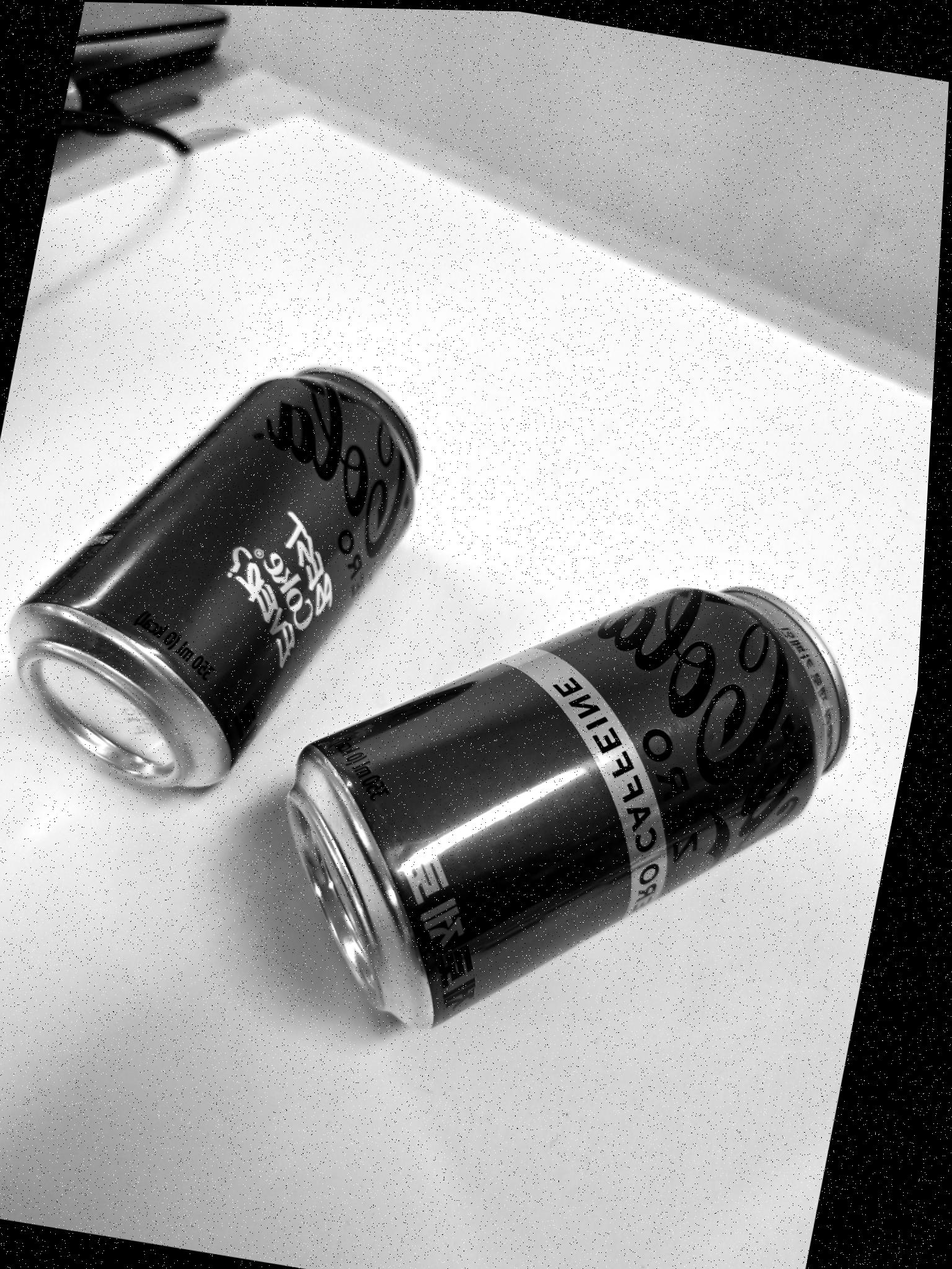can_coke_decaf: (279, 579, 854, 1031)
can_coke_zero: (28, 361, 425, 785)
